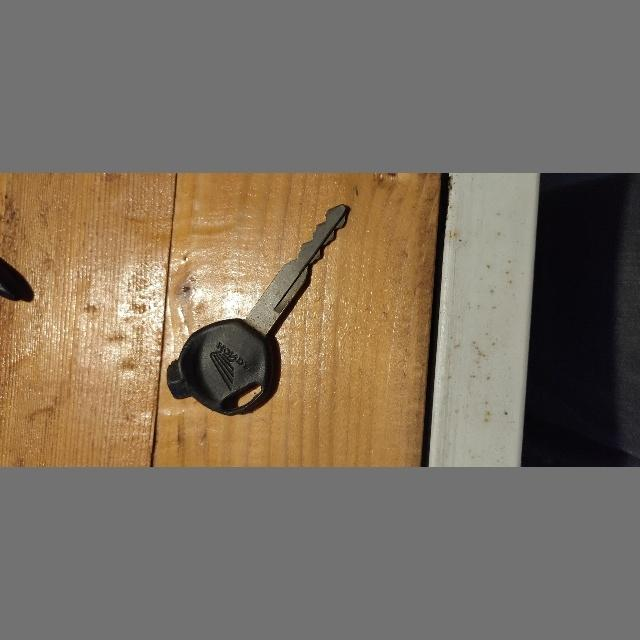Keys: (162, 200, 354, 428)
